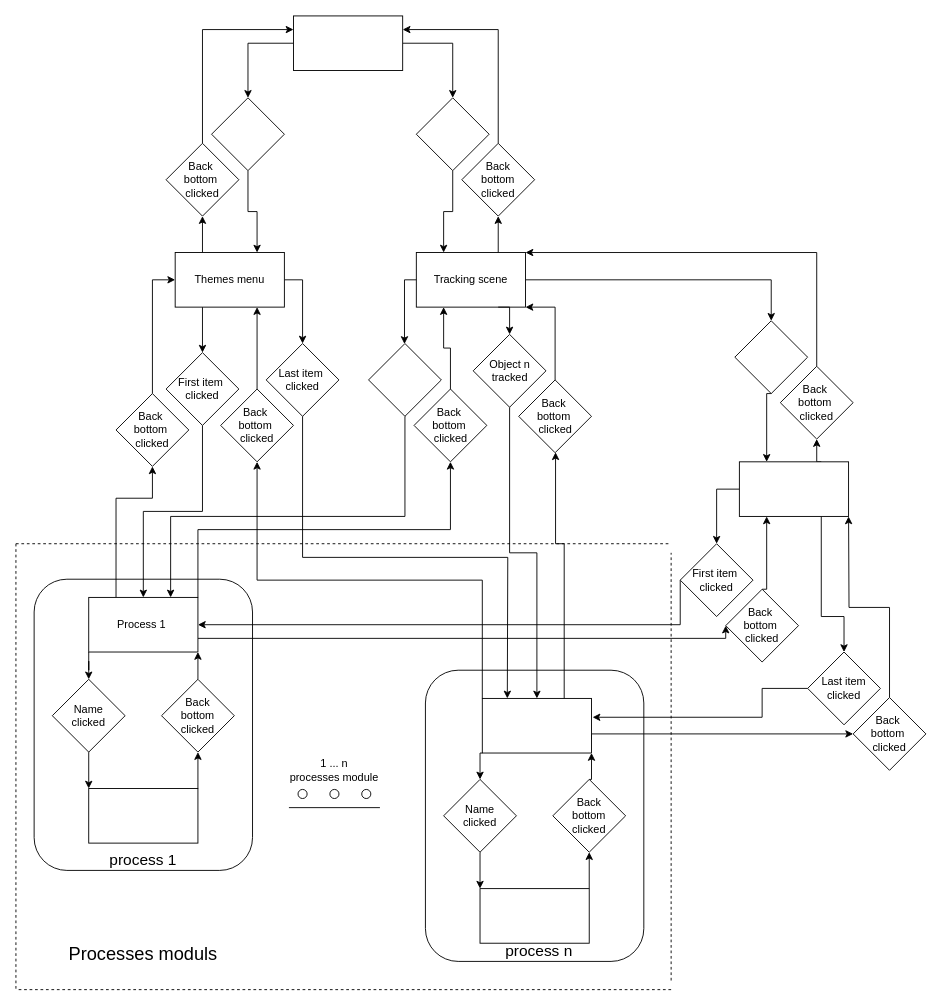
Image size: 942x1006. Some labels were removed from this diagram. The box of each missing label's shape, as (x1, y1, x2, y2) in pixels:
Cam bottom clicked: (415, 97, 489, 171)
Cover tracked: (734, 320, 808, 394)
Main: (293, 15, 403, 71)
Object 1 tracked: (368, 343, 441, 416)
Process 1 describtion: (88, 788, 198, 843)
Process n (last): (481, 698, 592, 753)
Process n discribtion: (479, 888, 589, 943)
Themes menu on book cover: (738, 461, 849, 516)
Without Cam bottom clicked: (211, 97, 284, 171)
